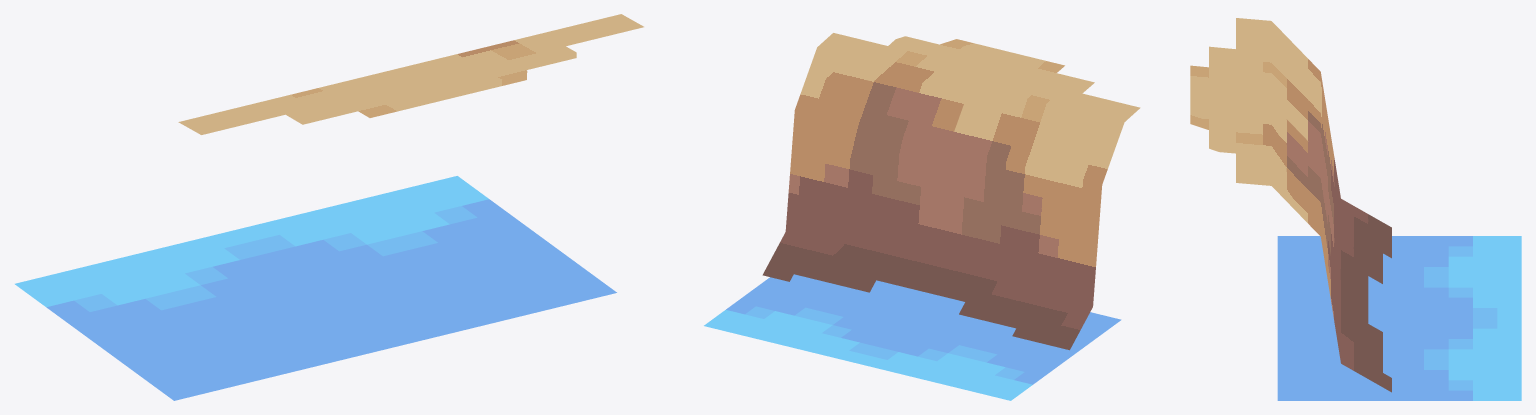
File: berge-mare-native-03.glb
3 renders of one model, left to right at view 1: azimuth 30°, elevation 25°; view 2: azimuth 150°, elevation 25°; view 3: azimuth 270°, elevation 25°, orthographic. The views are drawn at different scales.
Bounding box in the file's own units: 1 × 0.627 × 0.849.
2 materials, 2 textured.
